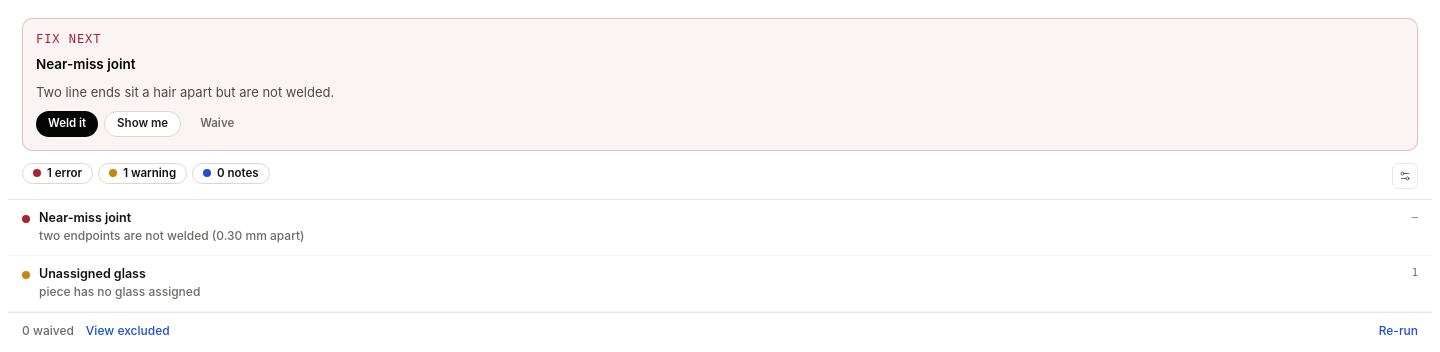
Test: RulesPanel — fix next (Cockpit v2) › says so when every issue is filtered out
Click the button "1 error".
click(58, 173)  # box [22, 163, 93, 184]
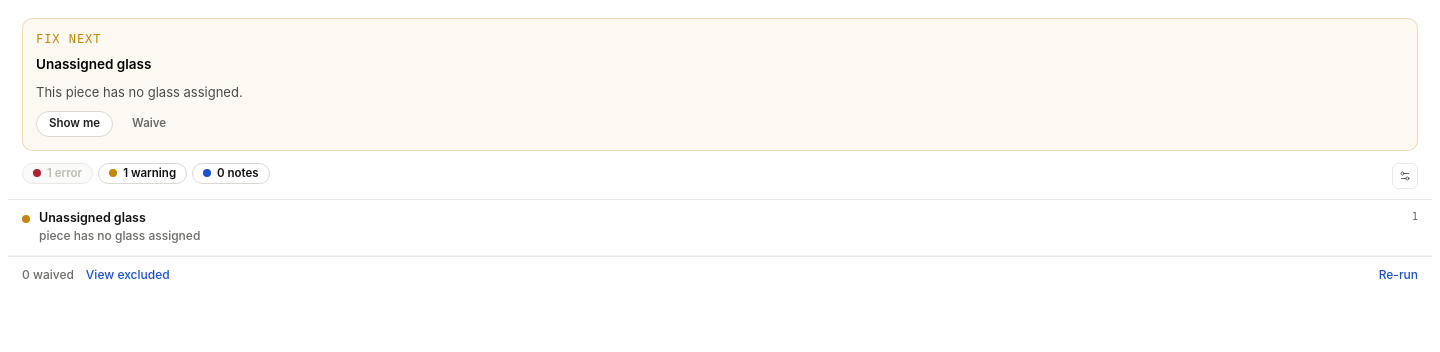
Click the button "1 warning".
click(143, 173)  # box [98, 163, 187, 184]
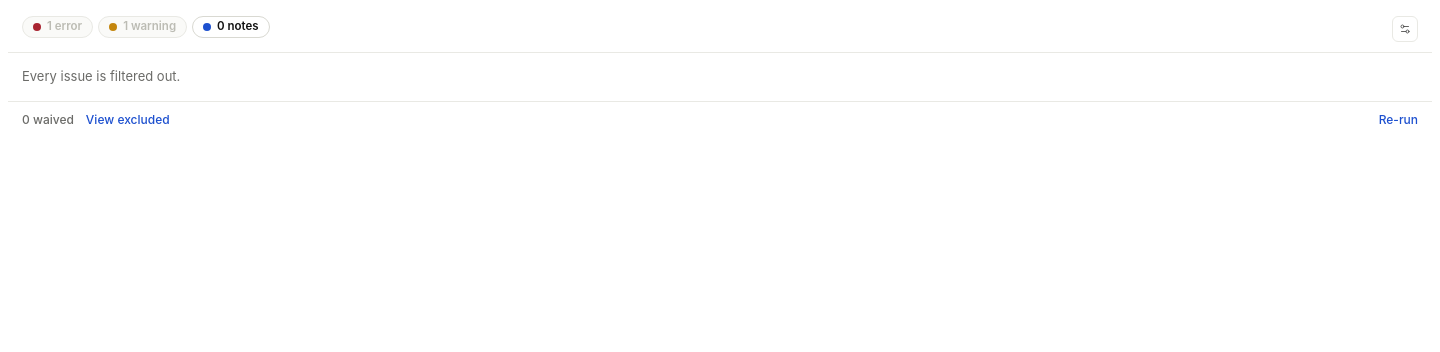
Expected: the text "Every issue is filtered out." is shown, [22, 67, 180, 86]
Expected: the element with test id "fix-next" is gone
